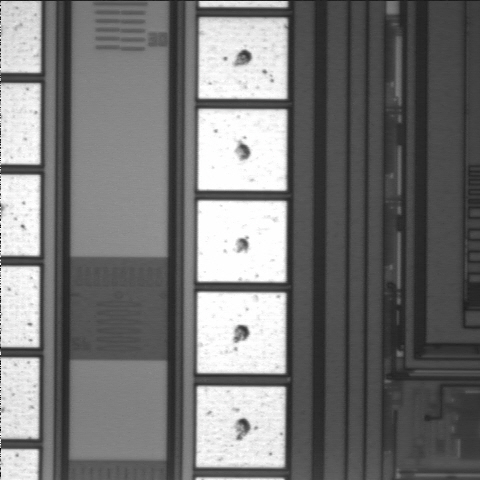pad: (198, 17, 287, 99), (198, 109, 287, 191), (197, 200, 286, 282), (197, 292, 286, 374), (196, 386, 285, 468)
